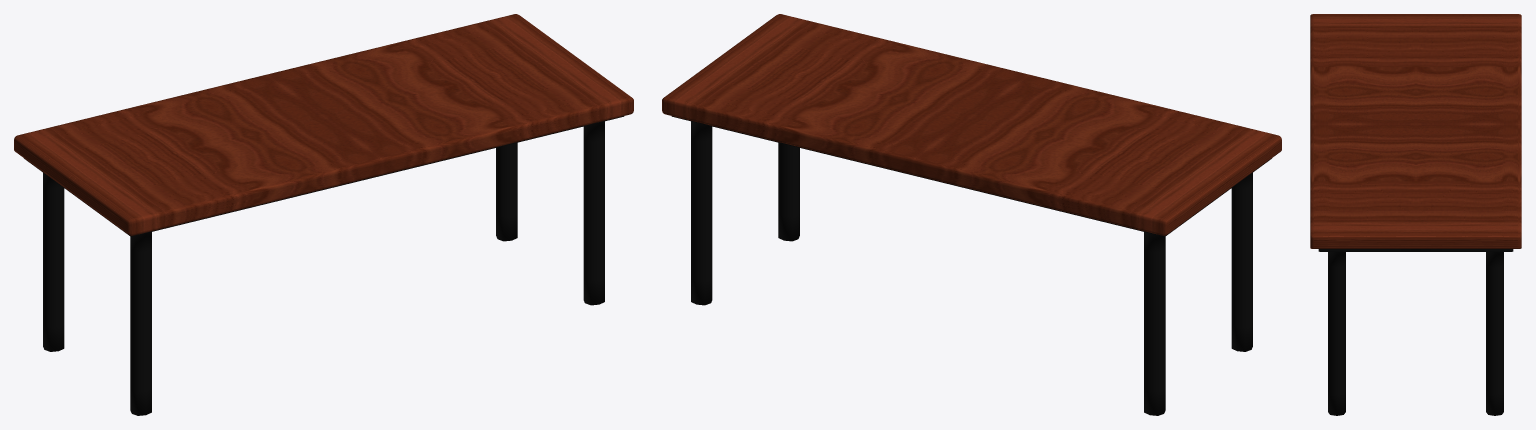
Rendered from table.obj.
The picture shows the model from 3 angles, left to right: view 1: azimuth 30°, elevation 25°; view 2: azimuth 150°, elevation 25°; view 3: azimuth 270°, elevation 25°; orthographic projection. The views are drawn at different scales.
Parts seen in each view (by area): view 1: Cube, Cube.001; view 2: Cube, Cube.001; view 3: Cube, Cube.001.
Part boxes in pixels (x1,y1,x2,y2): Cube: (14,14,633,235); Cube.001: (24,116,624,415); Cube: (662,14,1281,235); Cube.001: (671,116,1271,415); Cube: (1310,14,1521,248); Cube.001: (1318,249,1513,415).
Size of the model in its own units: 3 by 1.18 by 1.2.
Materials: 2 (1 with a texture image).
